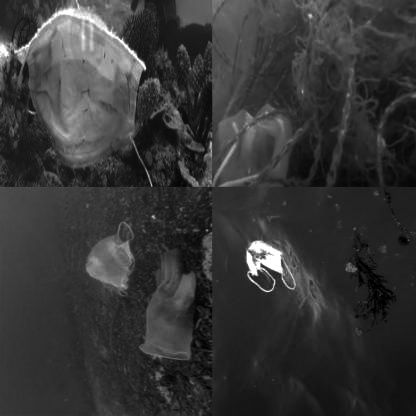Mask: (16, 12, 147, 165), (212, 81, 302, 186), (84, 223, 138, 294), (244, 239, 298, 298)
glove: (136, 246, 198, 365)
